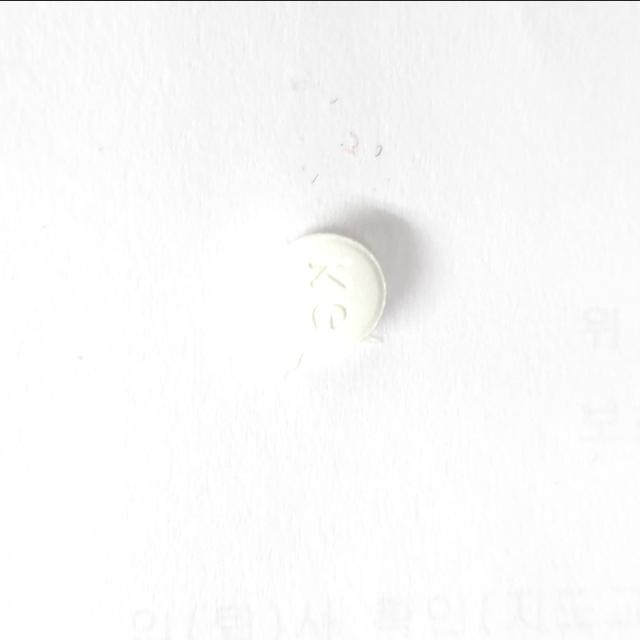pill: (259, 228, 394, 352)
